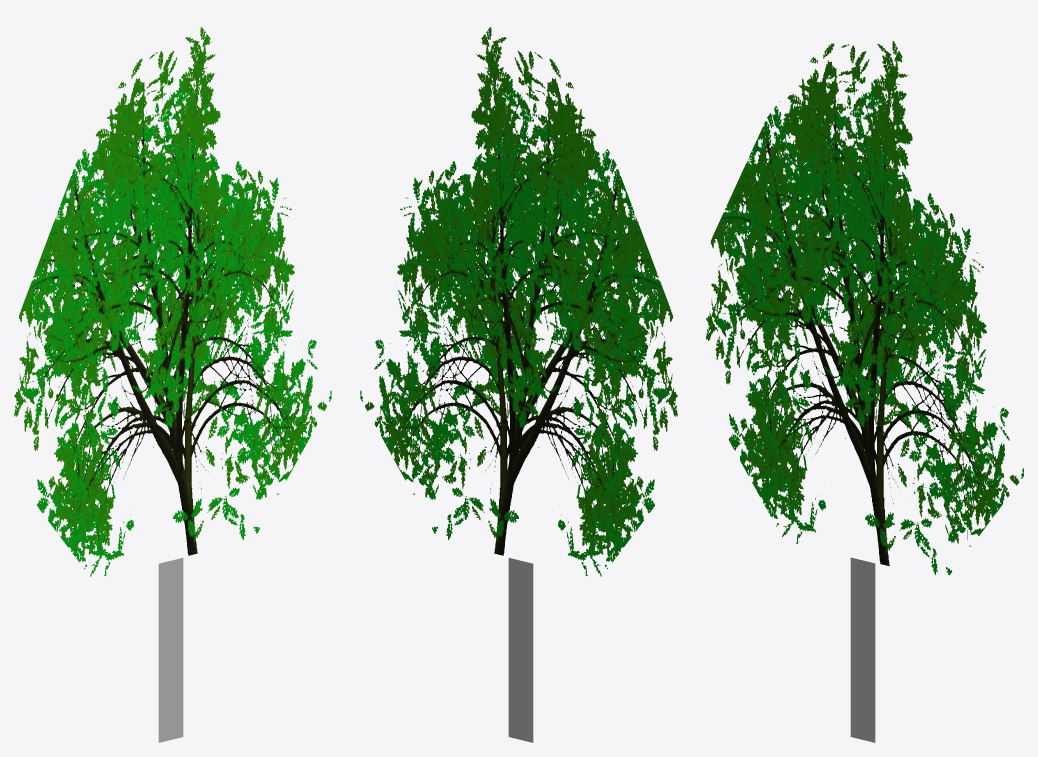
The model's file is Lollipop2.obj.
3 views of the same model, side by side, from view 1: azimuth 30°, elevation 25°; view 2: azimuth 150°, elevation 25°; view 3: azimuth 330°, elevation 25° (orthographic).
Visible parts, largest first — view 1: Crown, Trunk; view 2: Crown, Trunk; view 3: Crown, Trunk.
Part boxes in pixels (x1,y1,x2,y2): Crown: (14,27,331,576); Trunk: (158,558,183,742); Crown: (360,27,677,576); Trunk: (508,558,533,742); Crown: (706,41,1023,575); Trunk: (850,557,875,742).
Size of what is drawn, in the model's own units: 2.79 by 6.05 by 0.
2 materials, 1 textured.
